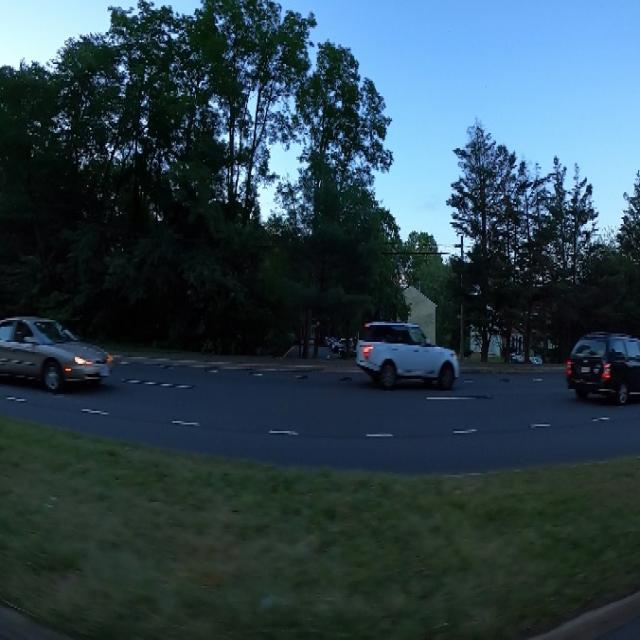cars: (0, 297, 115, 407), (354, 307, 460, 398), (564, 324, 640, 404)
